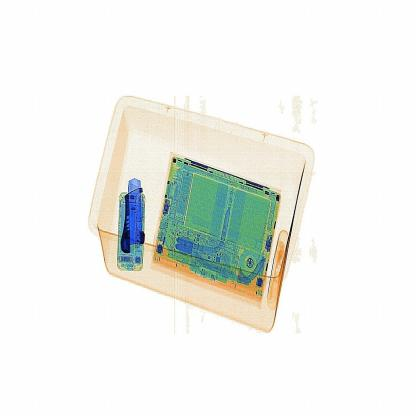pliers: (119, 173, 152, 253)
